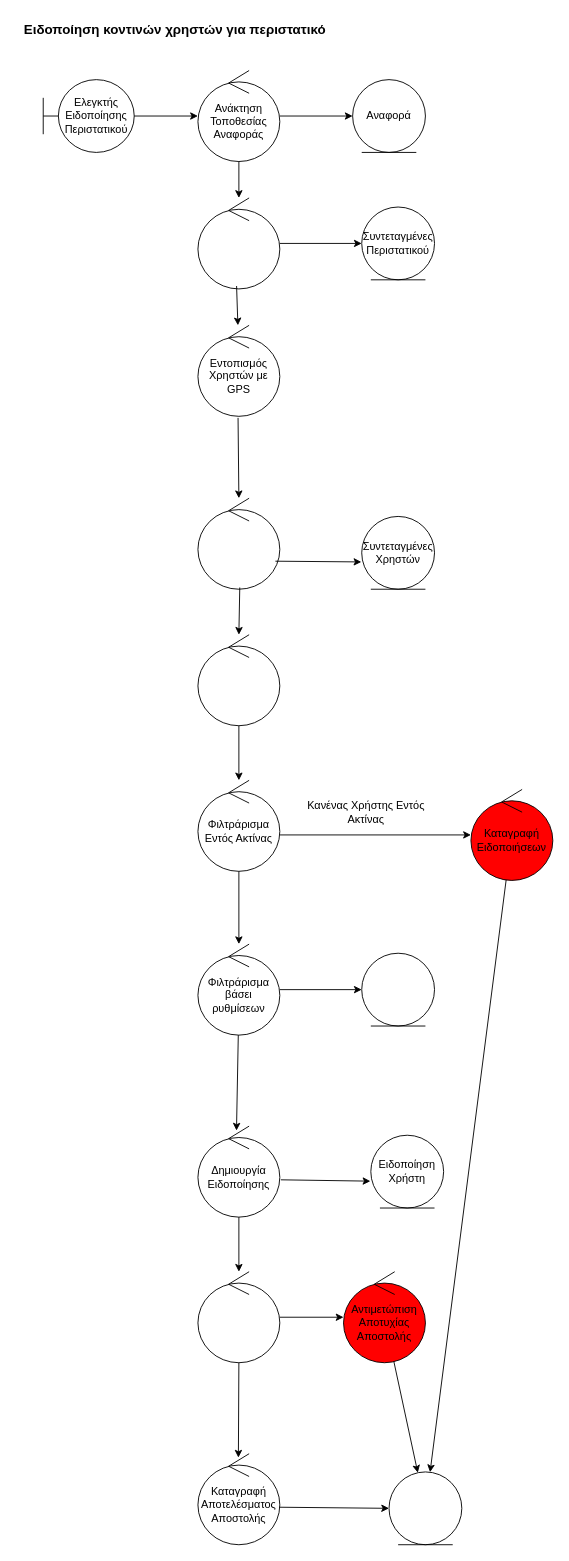
This 569x1561 diagram has some shape labels left out. Each missing label, with the centre of its shape:
"Ανάκτηση Θέσης Χρηστών" belongs at point (238, 543).
"Αποστολή Ειδοποίησης" belongs at point (238, 1317).
"Αποτέλεσμα Αποστολής" belongs at point (425, 1508).
"Μετατροπή Τοποθεσίας σε Συντεταγμένες" belongs at point (238, 243).
"Ρυθμίσεις Χρηστών" belongs at point (398, 989).
"Υπολογισμός Απόστασης" belongs at point (238, 680).
